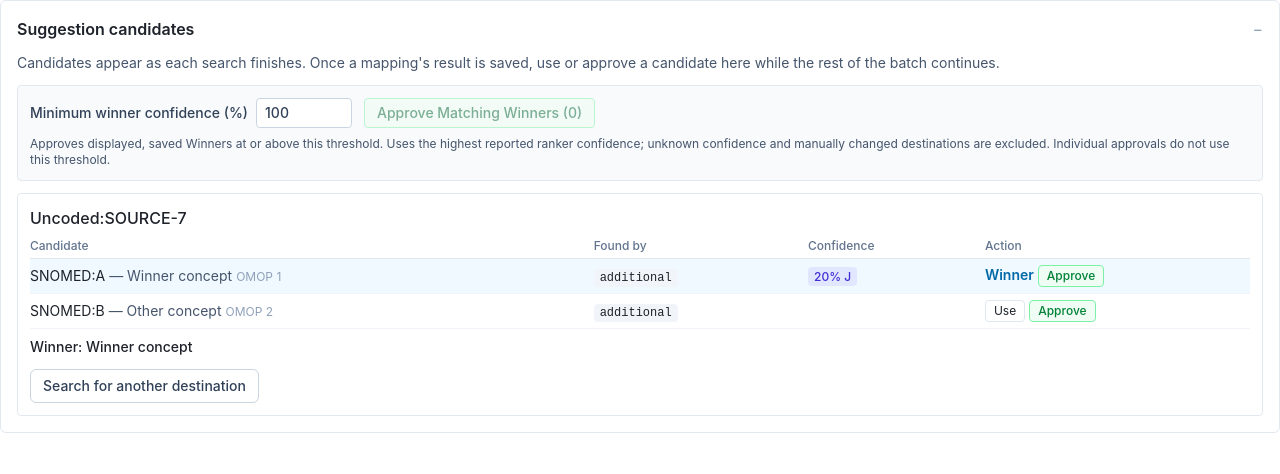
explicit matching Winner approval › rejects invalid threshold -1 without blocking individual approval
Step 1. Replace the text in the number field labelled "Minimum winner confidence (%)" with "-1" → (304, 113), box [256,98,352,128]
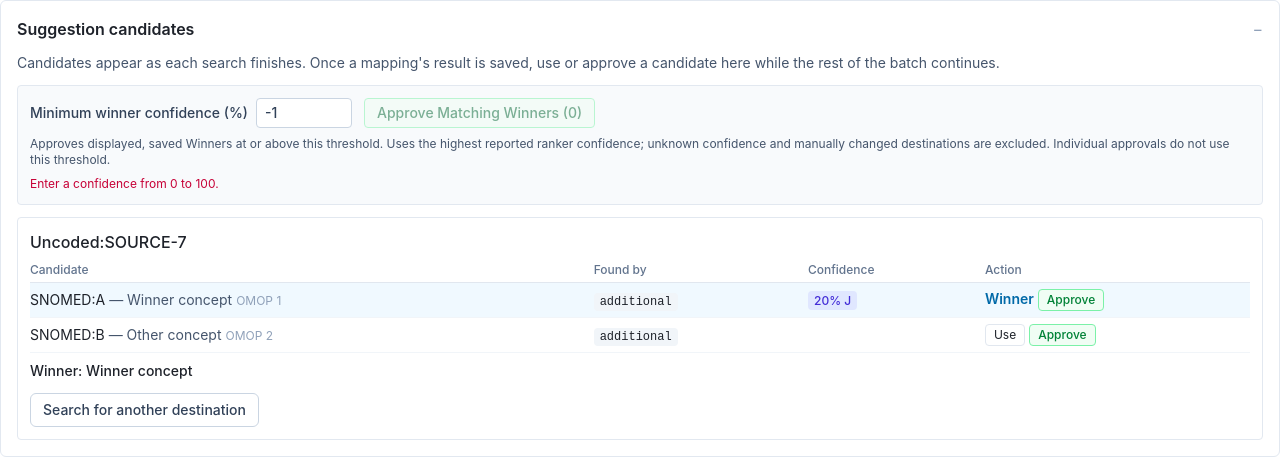
expect the button "Approve Matching Winners (0)" is disabled: met, box [364,98,595,128]
expect the number field labelled "Minimum winner confidence (%)" is marked as invalid: met, box [256,98,352,128]
Step 2. Click the button with aria-label "Approve Winner concept for SOURCE-7" → (1071, 300), box [1038,289,1104,311]
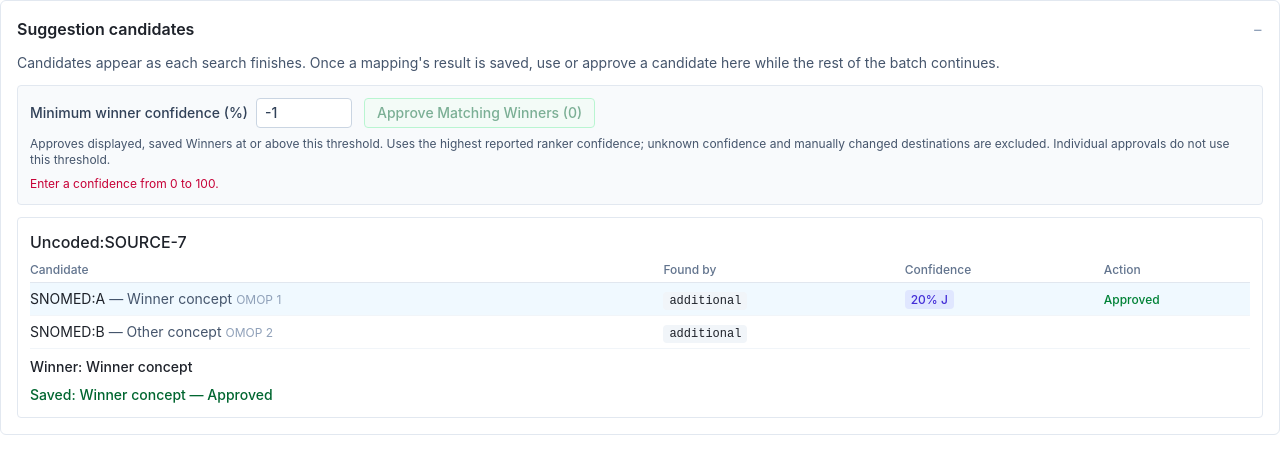
expect the text "Saved: Winner concept — Approved" is shown: met, box [30,385,273,405]
